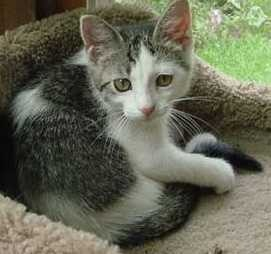Cat: (1, 7, 234, 245)
